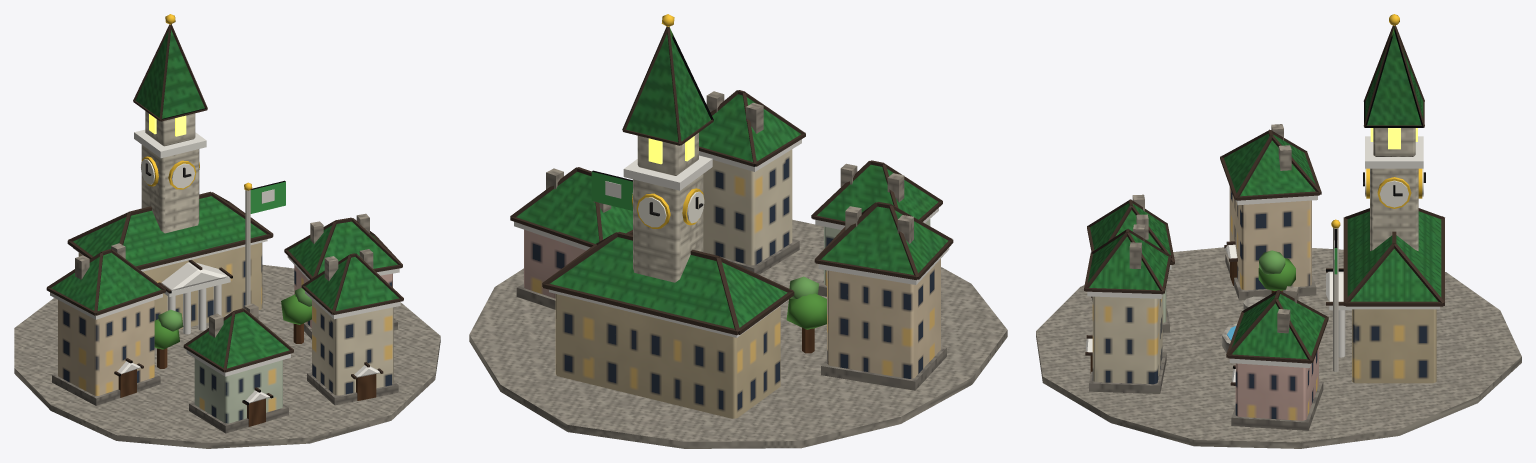
Rendered from city_dl4_green.glb.
The picture shows the model from 3 angles, left to right: view 1: azimuth 30°, elevation 25°; view 2: azimuth 150°, elevation 25°; view 3: azimuth 270°, elevation 25°; orthographic projection. The views are drawn at different scales.
Visible parts, largest first — view 1: city_dl4_green; view 2: city_dl4_green; view 3: city_dl4_green.
Boxes of the visible parts, box(x1,y1,x2,y2) form: city_dl4_green: box(14, 14, 440, 448); city_dl4_green: box(469, 14, 1007, 448); city_dl4_green: box(1036, 14, 1521, 448).
Size of the model in its own units: 1.44 by 1.14 by 1.49.
Materials: 2 (1 with a texture image).
